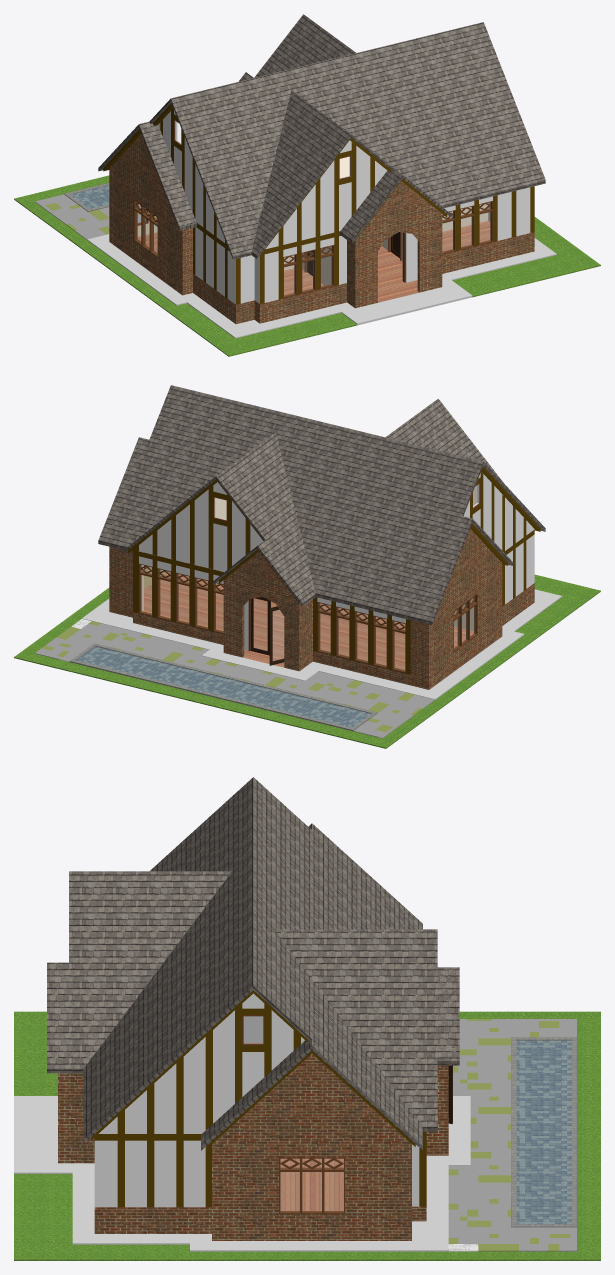
File: Tudor House.glb
3 views of the same model, one above another, from view 1: azimuth 30°, elevation 25°; view 2: azimuth 150°, elevation 25°; view 3: azimuth 270°, elevation 25° (orthographic). The views are drawn at different scales.
Visible parts, largest first — view 1: group_50, instance_6.002, instance_7.129, instance_4.003, instance_5.001, group_51.004, group_1, group_31, group_69.004, group_69.039, group_69.006, group_41; view 2: group_50, instance_6.002, instance_7.129, instance_5.001, group_51.004, group_41, instance_4.003, group_40.002, group_1, group_69.036, group_110, group_22.019 (+2 smaller); view 3: group_50, instance_7.129, instance_6.002, instance_4.003, instance_5.001, group_41, group_1.008, group_51.004, group_40.002, instance_5.008, group_69.018.
Boxes of the visible parts, x1=… form: group_50: x1=98, y1=22, x2=545, y2=259; instance_6.002: x1=103, y1=103, x2=534, y2=324; instance_7.129: x1=14, y1=175, x2=600, y2=356; instance_4.003: x1=251, y1=90, x2=453, y2=258; instance_5.001: x1=238, y1=14, x2=355, y2=81; group_51.004: x1=137, y1=221, x2=490, y2=302; group_1: x1=109, y1=134, x2=173, y2=215; group_31: x1=360, y1=181, x2=441, y2=233; group_69.004: x1=283, y1=245, x2=334, y2=298; group_69.039: x1=442, y1=201, x2=492, y2=254; group_69.006: x1=133, y1=199, x2=157, y2=257; group_41: x1=71, y1=185, x2=109, y2=208; group_50: x1=98, y1=385, x2=545, y2=625; instance_6.002: x1=109, y1=466, x2=540, y2=689; instance_7.129: x1=14, y1=574, x2=600, y2=748; instance_5.001: x1=122, y1=432, x2=315, y2=606; group_51.004: x1=144, y1=571, x2=473, y2=669; group_41: x1=76, y1=646, x2=370, y2=727; instance_4.003: x1=385, y1=398, x2=503, y2=482; group_40.002: x1=69, y1=643, x2=377, y2=731; group_1: x1=438, y1=529, x2=501, y2=609; group_69.036: x1=317, y1=602, x2=405, y2=673; group_110: x1=139, y1=563, x2=223, y2=633; group_22.019: x1=224, y1=552, x2=293, y2=596; group_50: x1=83, y1=777, x2=422, y2=1150; instance_7.129: x1=14, y1=1011, x2=600, y2=1260; instance_6.002: x1=58, y1=990, x2=448, y2=1240; instance_4.003: x1=47, y1=871, x2=231, y2=1073; instance_5.001: x1=274, y1=929, x2=437, y2=1131; group_41: x1=516, y1=1040, x2=571, y2=1224; group_1.008: x1=216, y1=1054, x2=407, y2=1140; group_51.004: x1=280, y1=1158, x2=343, y2=1210; group_40.002: x1=511, y1=1037, x2=576, y2=1227; instance_5.008: x1=437, y1=967, x2=459, y2=1065; group_69.018: x1=279, y1=1157, x2=344, y2=1214.
Bounding box in the file's own units: 16 × 7.71 × 16.
Materials: 19 (13 with a texture image).
